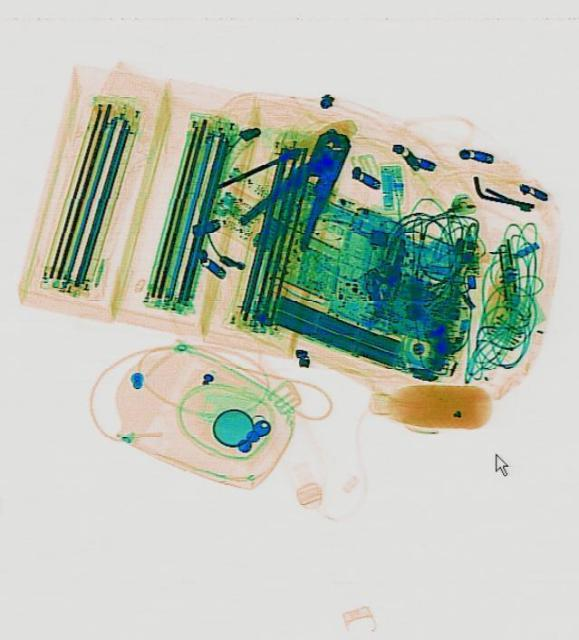Pliers: (236, 110, 367, 258)
